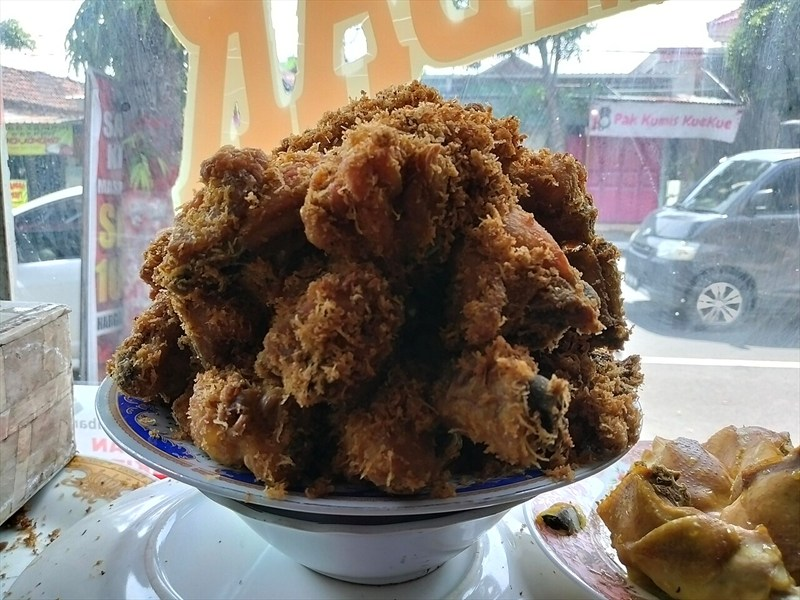Ayam Goreng: (127, 104, 663, 536)
